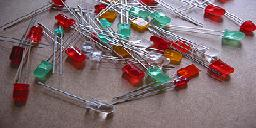LED: (11, 81, 36, 110), (64, 39, 86, 62), (220, 28, 249, 45), (87, 98, 112, 117), (202, 1, 226, 16)
